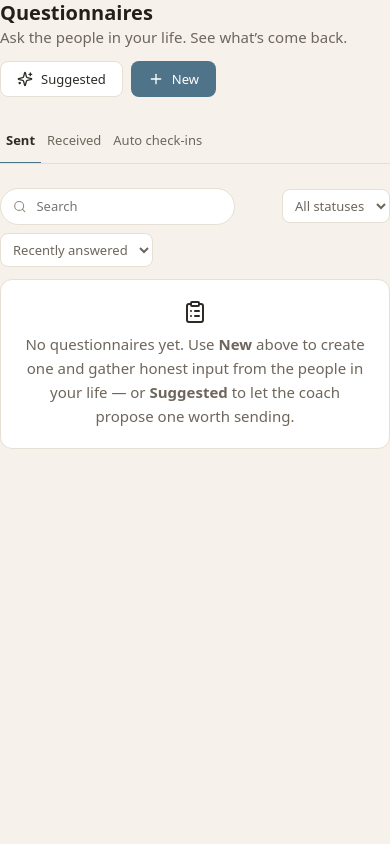
it: Questionnaires › generates questions with AI and appends them as editable AI drafts
Click the button "New" at point(173, 79), box [131,61,216,97]
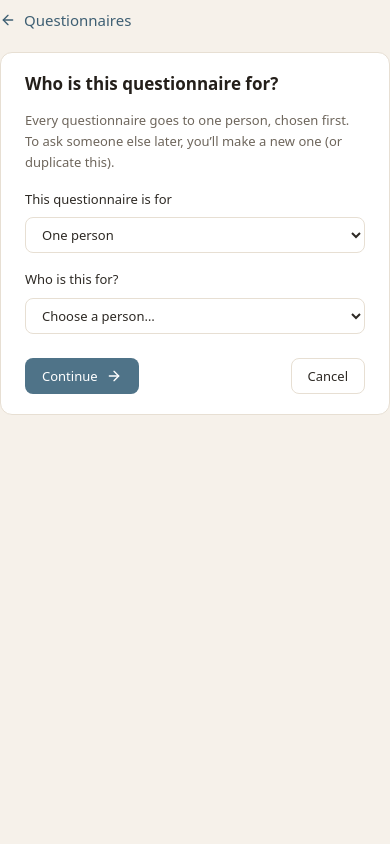
Select "Mara" in the dropdown labelled "Who is this for?" at point(195, 316), box [25,298,365,334]
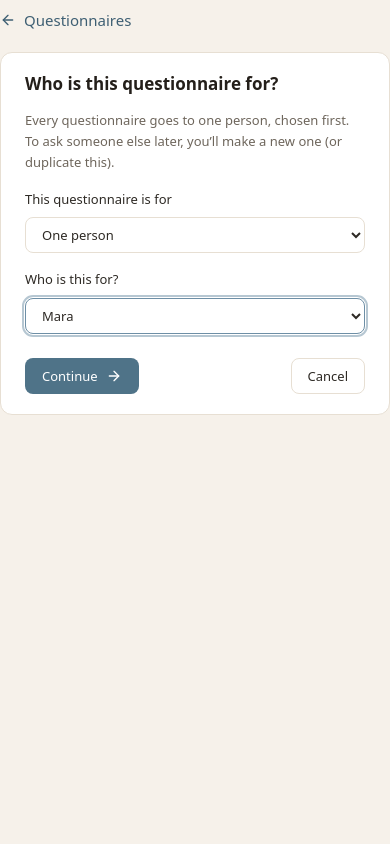
Click the button "Continue" at point(82, 376), box [25,358,139,394]
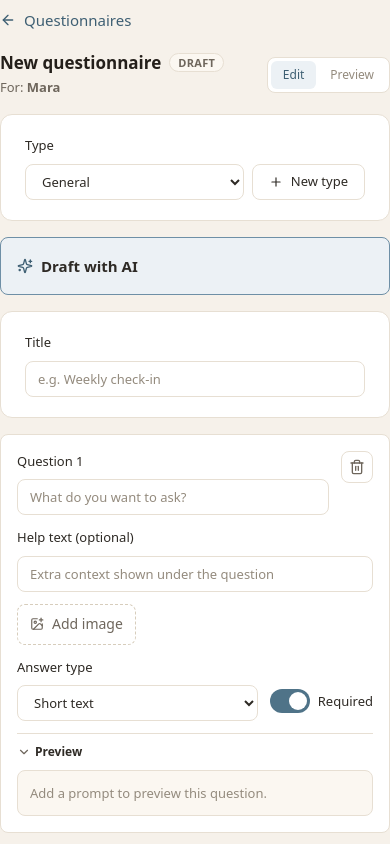
expect the field labelled "Title" is shown: met, box [25,361,365,397]
Click the button "Draft with AI" at point(89, 266), box [17,254,373,278]
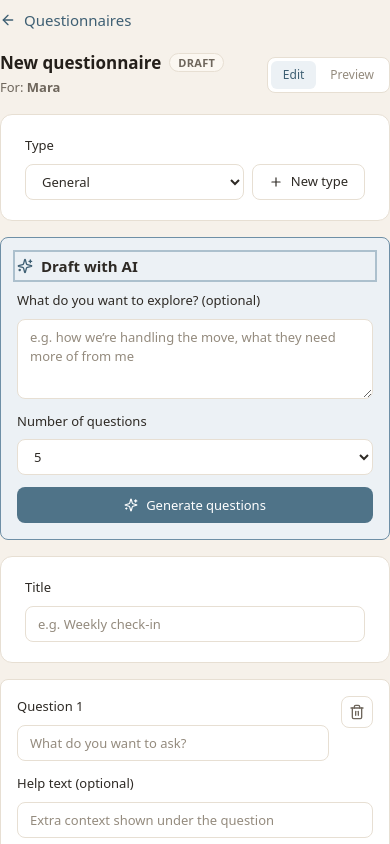
Click the button "Generate questions" at point(195, 505), box [17,487,373,523]
(page scrolled)
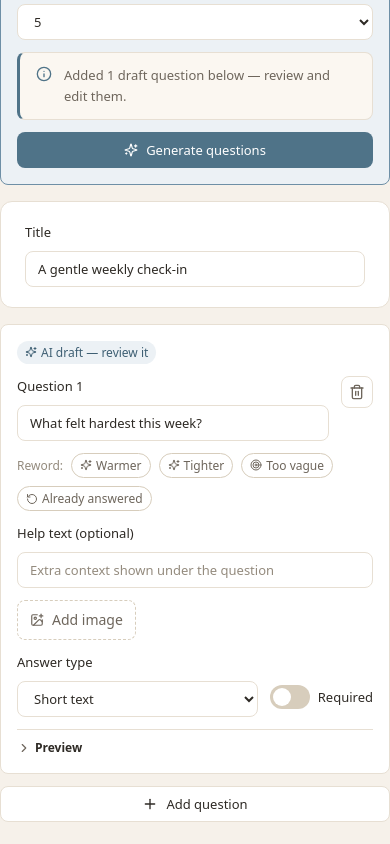
expect the text "AI draft — review it" is shown: met, box [17,341,156,364]
expect the field labelled "Title" holds "A gentle weekly check-in": met, box [25,251,365,287]
expect the field labelled "Question 1" holds "What felt hardest this week?": met, box [17,405,329,441]
